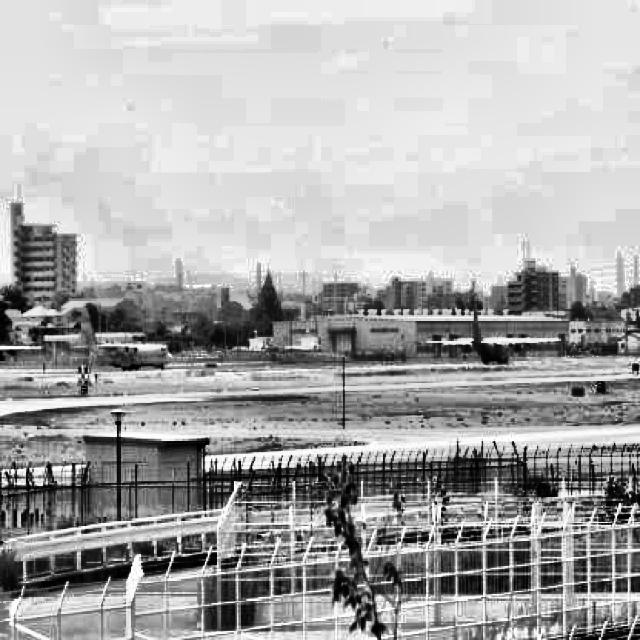C130: (426, 302, 562, 364), (70, 306, 173, 371), (0, 345, 45, 363)
